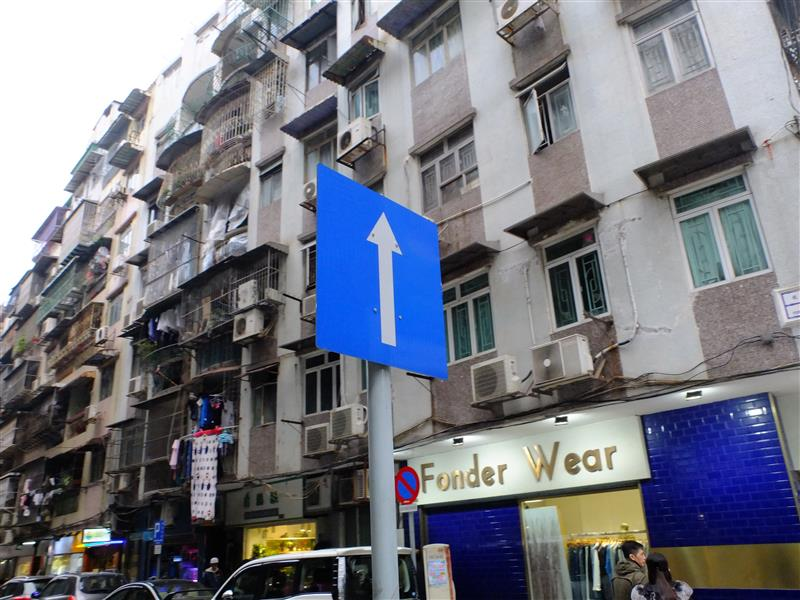oneway: (295, 147, 475, 393)
